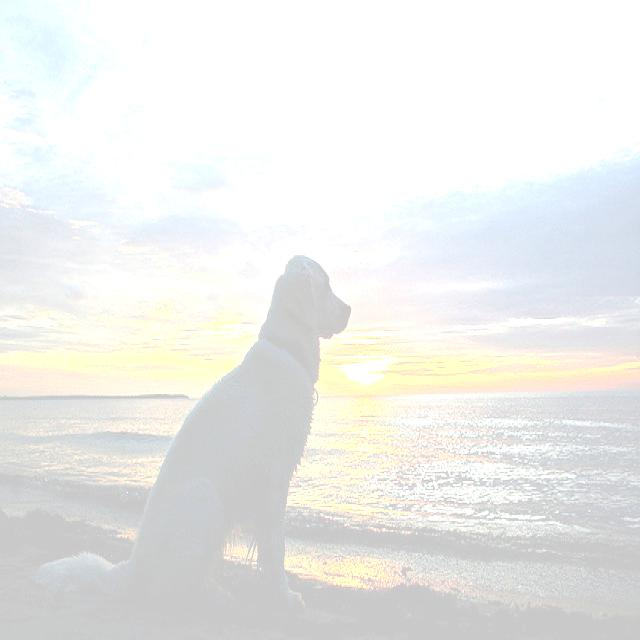Dog: (106, 200, 363, 624)
